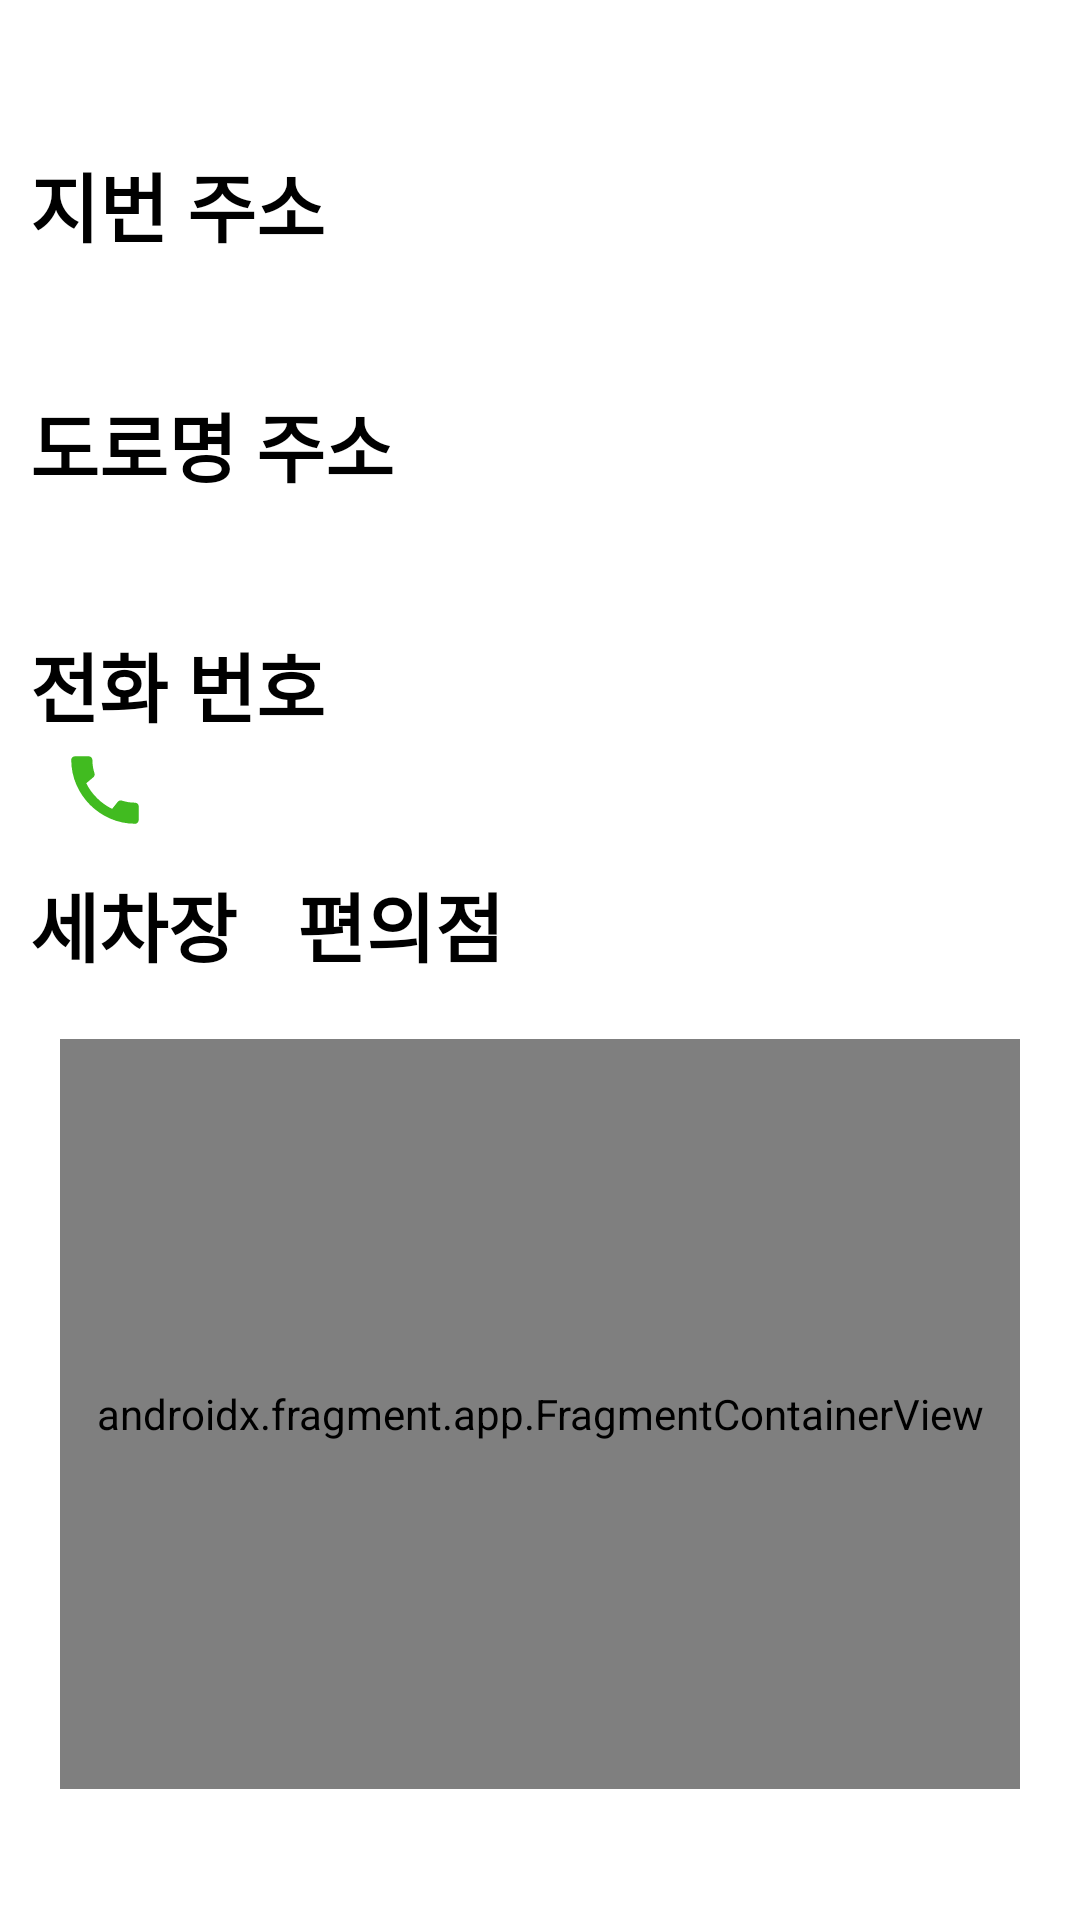

Icon bounding boxes for this 1080*1920 phone screenshot, format (x1, y1, x2, y2):
call: (71, 756, 139, 824)
